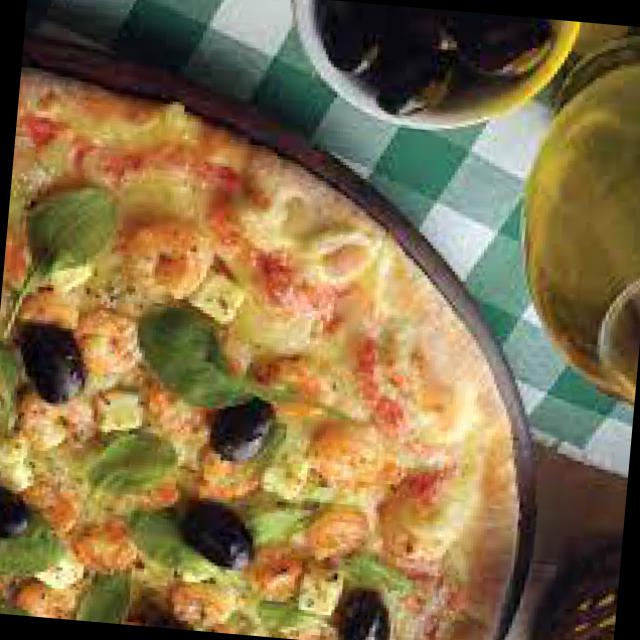camarao: (112, 212, 217, 306), (302, 420, 402, 494), (74, 312, 146, 373), (68, 516, 142, 574), (301, 502, 368, 566), (166, 578, 236, 630)
pizza: (0, 63, 562, 639)
